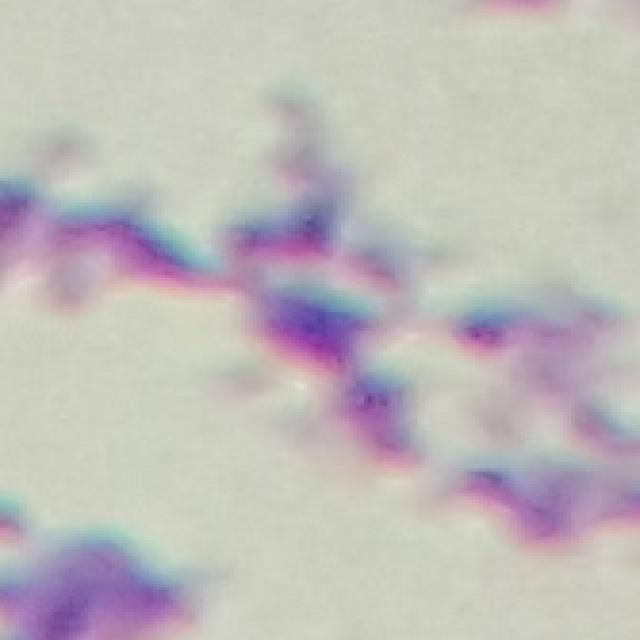non-sperm: (217, 180, 424, 470)
